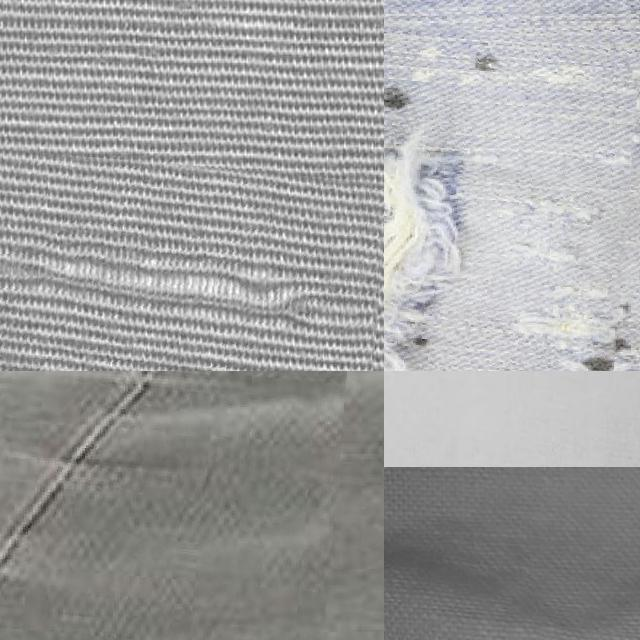other: (384, 11, 634, 371)
stains: (0, 371, 340, 640), (0, 151, 384, 371)
